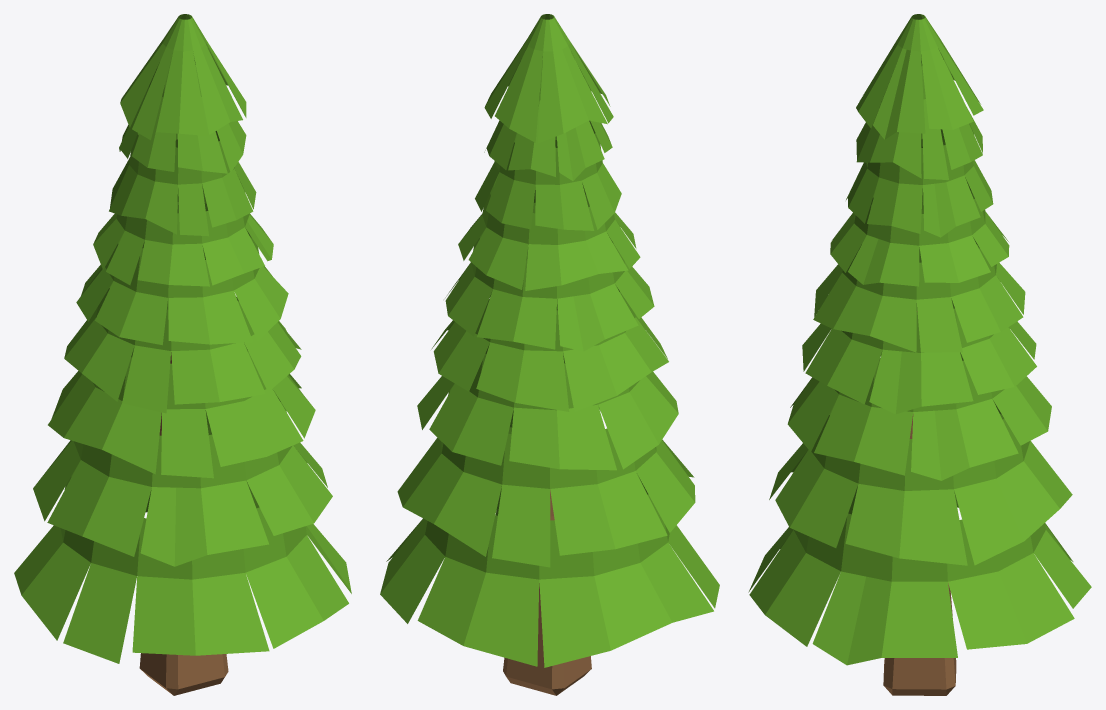
The model's file is Tree2.0.fbx.
3 renders of one model, left to right at view 1: azimuth 30°, elevation 25°; view 2: azimuth 150°, elevation 25°; view 3: azimuth 270°, elevation 25°, orthographic.
Visible parts, largest first — view 1: BEAM.560; view 2: BEAM.560; view 3: BEAM.560.
Part boxes in pixels (box(x1,y1,x2,y2)): BEAM.560: box(14, 14, 351, 695); BEAM.560: box(380, 14, 719, 695); BEAM.560: box(748, 14, 1091, 695).
Size of the model in its own units: 559 by 1223 by 570.
